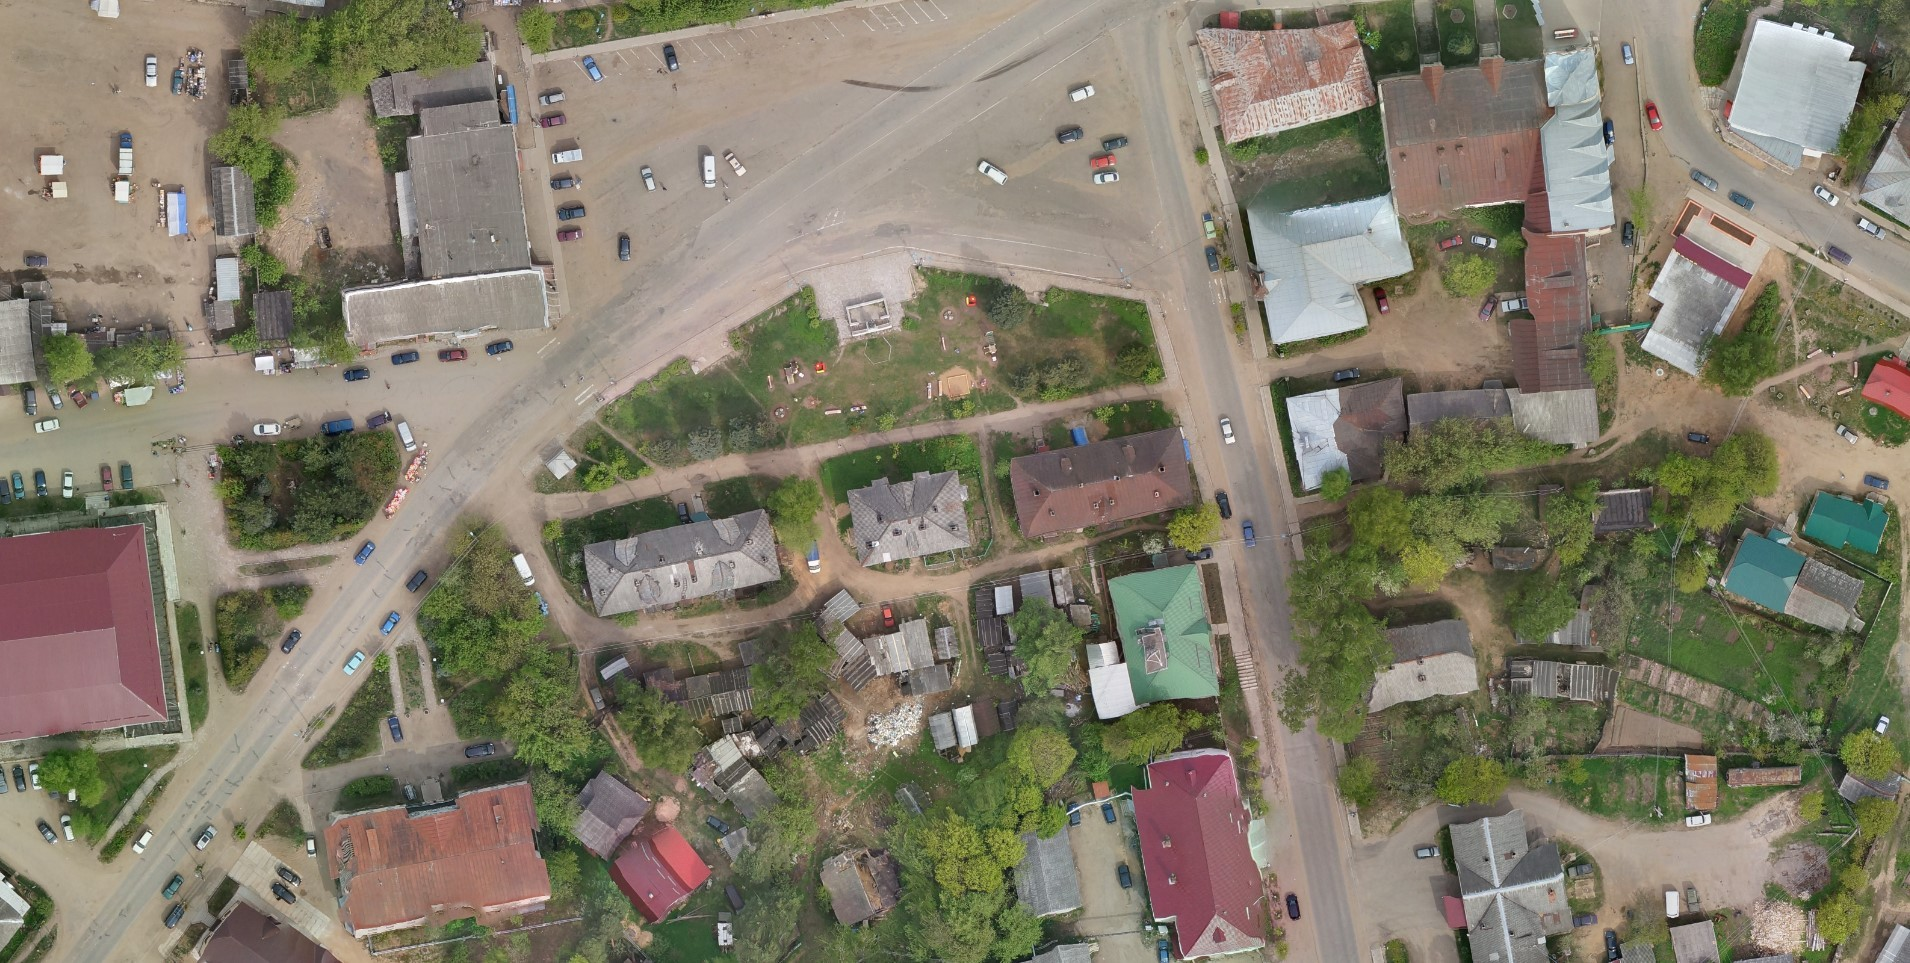build: (337, 61, 579, 350), (1367, 52, 1639, 248), (1, 493, 192, 757), (1230, 170, 1449, 337), (325, 774, 556, 931), (1128, 746, 1271, 963), (1185, 18, 1397, 139), (1424, 809, 1587, 963), (1318, 595, 1495, 735), (563, 504, 782, 615), (1640, 203, 1768, 382), (1722, 11, 1871, 152), (1716, 524, 1887, 646), (1089, 563, 1236, 703), (1008, 427, 1193, 527), (1273, 373, 1424, 493), (835, 466, 976, 574), (1001, 813, 1097, 925), (550, 764, 649, 859), (1850, 86, 1910, 237), (617, 829, 719, 911), (189, 902, 325, 963), (1793, 480, 1895, 560), (1, 278, 52, 411), (814, 854, 893, 925), (203, 165, 275, 240), (1858, 362, 1910, 407), (603, 665, 634, 695), (646, 669, 676, 696)
